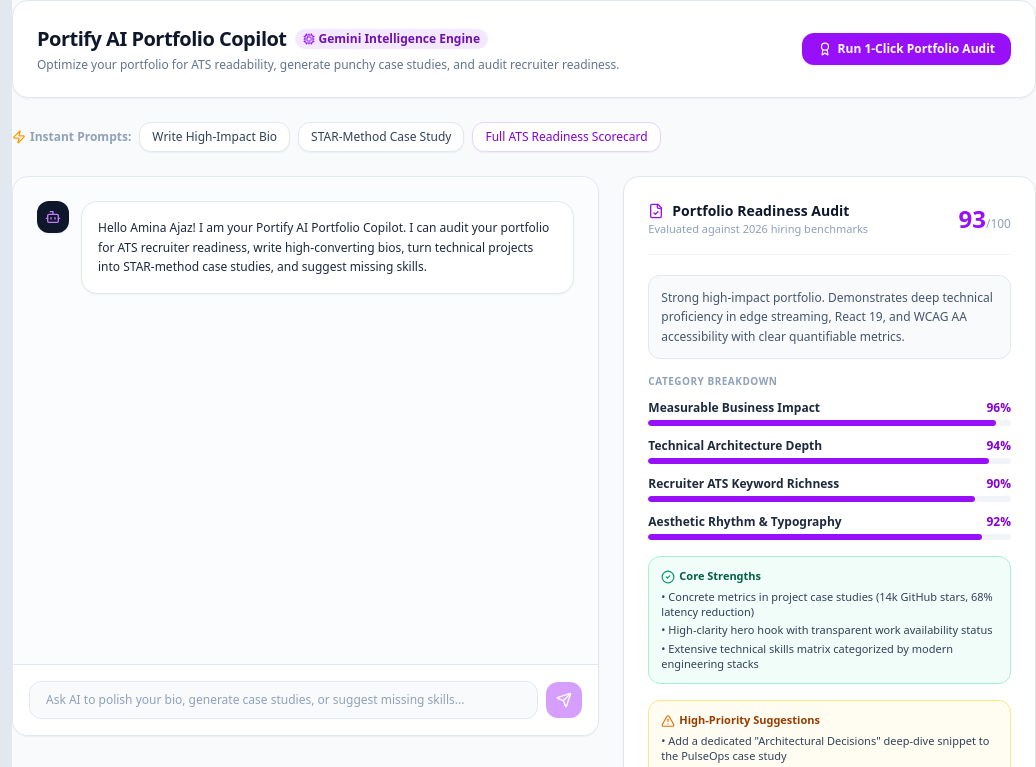
AI Copilot & Chat Message Renderer › renders STAR-method case study breakdown
Click the button "STAR-Method Case Study": (381, 137) [298, 122, 464, 152]
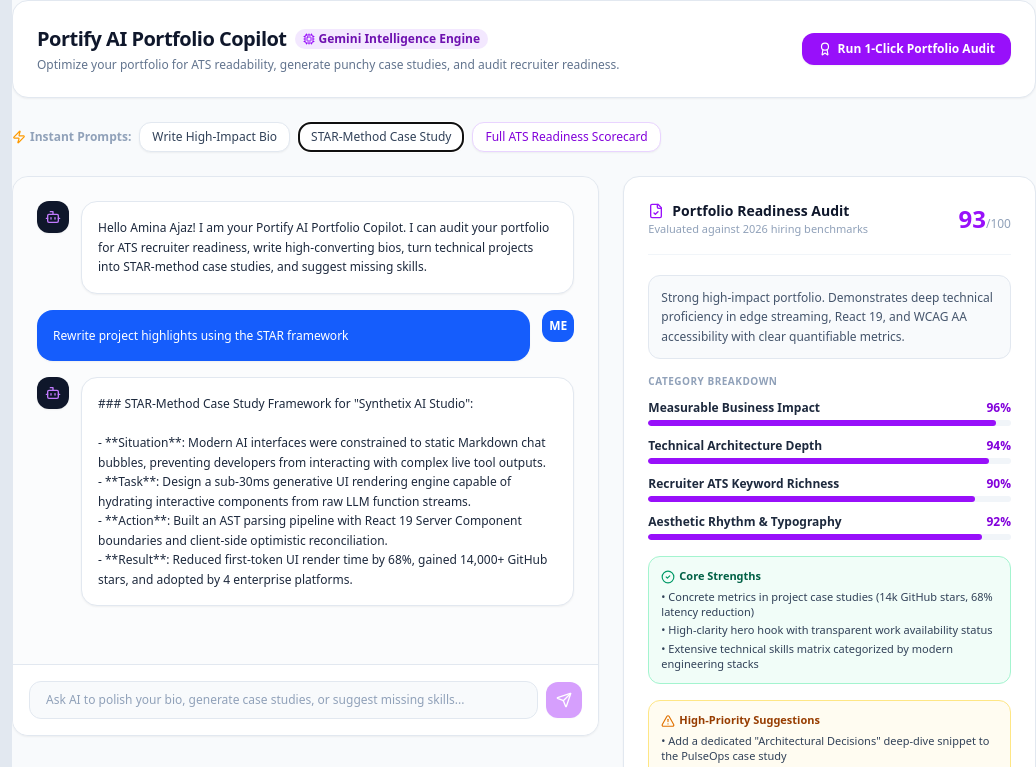
expect the text "STAR-Method Case Study Framework" is shown: met, box [98, 395, 550, 588]
